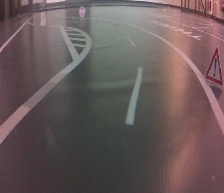warning sign: (204, 47, 224, 88)
